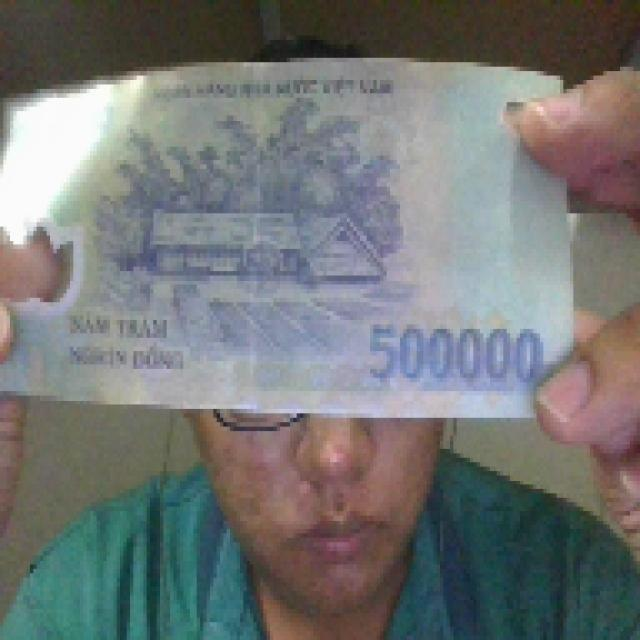500 000 VND: (0, 49, 580, 422)
